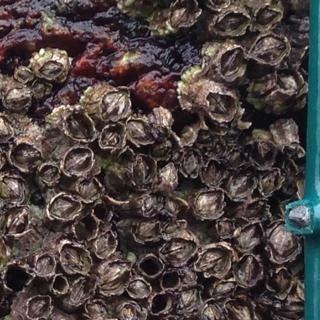Barnacle: (98, 86, 130, 121), (196, 243, 233, 273), (100, 261, 132, 295), (269, 226, 298, 259), (162, 238, 196, 265), (0, 204, 30, 234), (60, 148, 92, 176), (253, 36, 285, 64), (44, 193, 78, 219), (61, 243, 88, 275), (235, 221, 264, 249), (168, 0, 196, 29), (218, 47, 245, 77), (127, 118, 155, 146), (194, 189, 223, 216), (235, 255, 261, 285), (66, 112, 92, 141), (226, 171, 254, 197), (207, 92, 235, 118), (175, 285, 202, 311), (12, 143, 38, 169), (178, 148, 200, 178), (249, 138, 273, 165), (269, 268, 292, 296), (39, 57, 67, 80), (69, 277, 93, 303), (217, 12, 246, 33), (5, 85, 28, 111), (259, 167, 280, 194), (276, 71, 300, 94), (226, 301, 255, 320), (157, 159, 176, 188), (26, 295, 49, 318), (202, 159, 223, 184), (127, 277, 152, 297), (95, 229, 114, 255), (101, 125, 124, 146), (254, 6, 277, 27), (2, 175, 22, 199), (140, 194, 158, 220), (33, 254, 54, 276), (199, 301, 223, 320), (38, 163, 59, 184), (138, 221, 160, 241), (212, 280, 236, 298), (79, 178, 100, 198), (86, 301, 108, 320), (216, 218, 233, 238), (283, 143, 303, 160), (14, 67, 33, 84), (163, 220, 183, 234), (121, 305, 139, 320), (165, 197, 180, 213)
